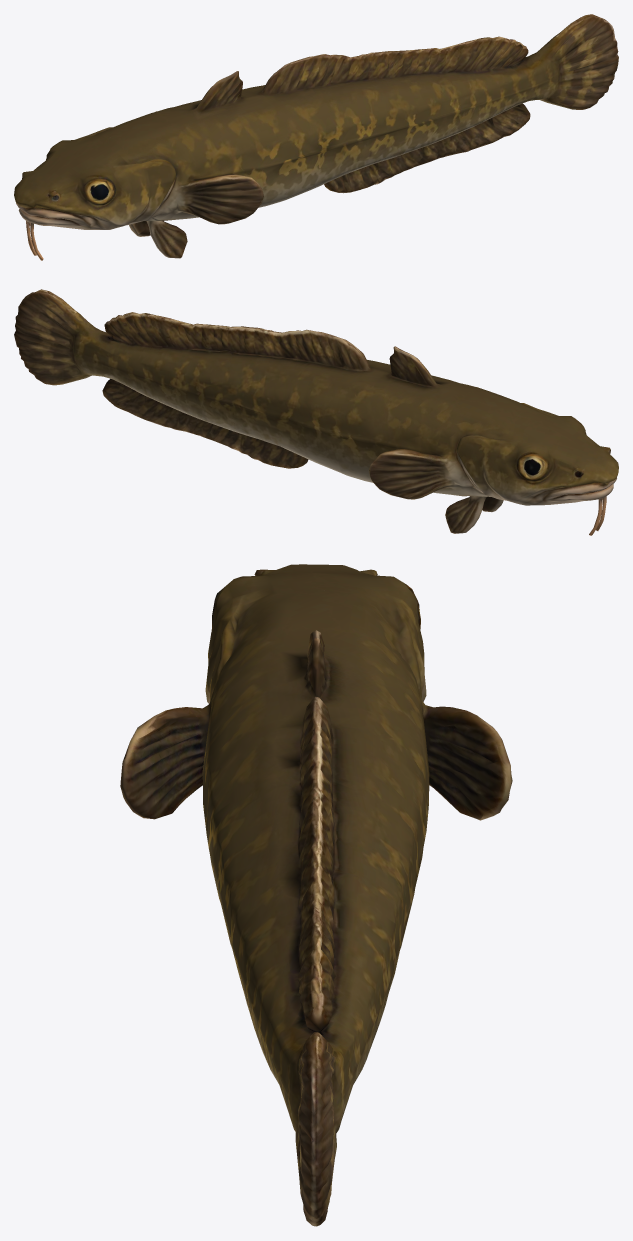
File: fish-nalim.glb
3 renders of one model, top to bottom at view 1: azimuth 30°, elevation 25°; view 2: azimuth 150°, elevation 25°; view 3: azimuth 270°, elevation 25°, orthographic. The views are drawn at different scales.
Visible parts, largest first — view 1: tripo_node_434fbc84-d21b-4018-a037-01d6d8dc90f0; view 2: tripo_node_434fbc84-d21b-4018-a037-01d6d8dc90f0; view 3: tripo_node_434fbc84-d21b-4018-a037-01d6d8dc90f0.
Boxes of the visible parts, bbox=[...] form: tripo_node_434fbc84-d21b-4018-a037-01d6d8dc90f0: bbox=[14, 14, 618, 260]; tripo_node_434fbc84-d21b-4018-a037-01d6d8dc90f0: bbox=[14, 289, 618, 535]; tripo_node_434fbc84-d21b-4018-a037-01d6d8dc90f0: bbox=[120, 564, 512, 1226].
Bounding box in the file's own units: 0.9997 × 0.2513 × 0.2826.
Materials: 1 (1 with a texture image).
